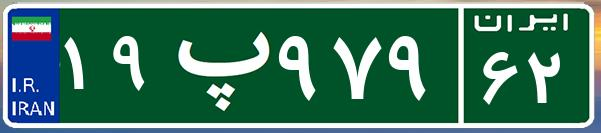1: (57, 26, 110, 107)
2: (525, 38, 570, 115)
6: (475, 38, 525, 113)
7: (330, 28, 385, 110)
9: (385, 28, 445, 110), (273, 28, 330, 110), (110, 28, 158, 105)
پ: (158, 15, 273, 115)
